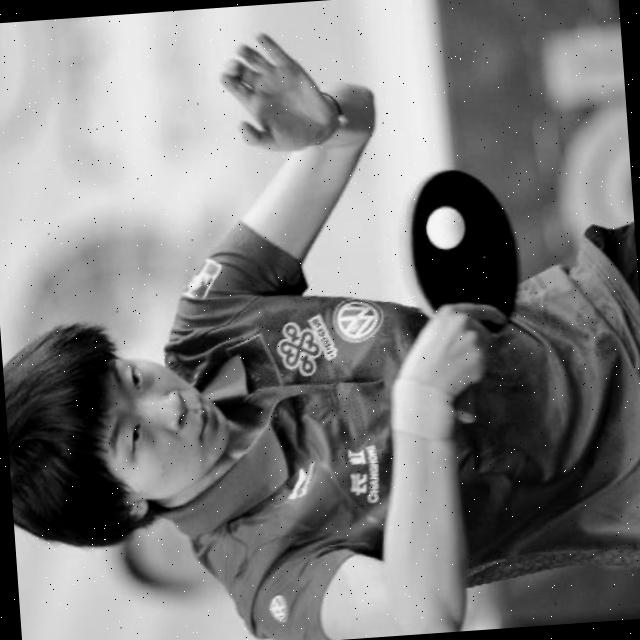ping-pong-ball: (418, 200, 468, 256)
